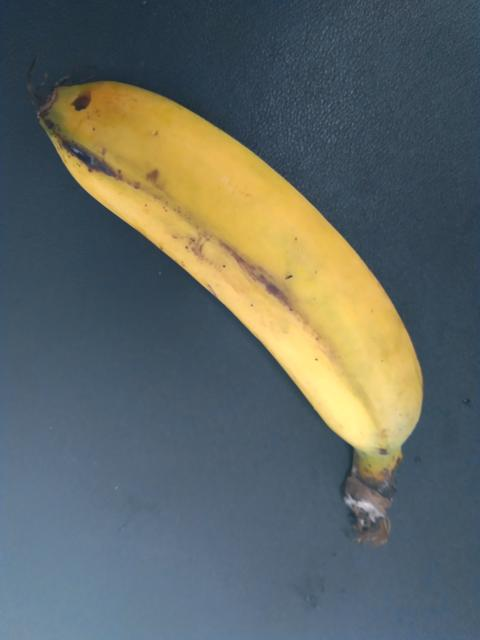freshripe: (43, 71, 441, 466)
